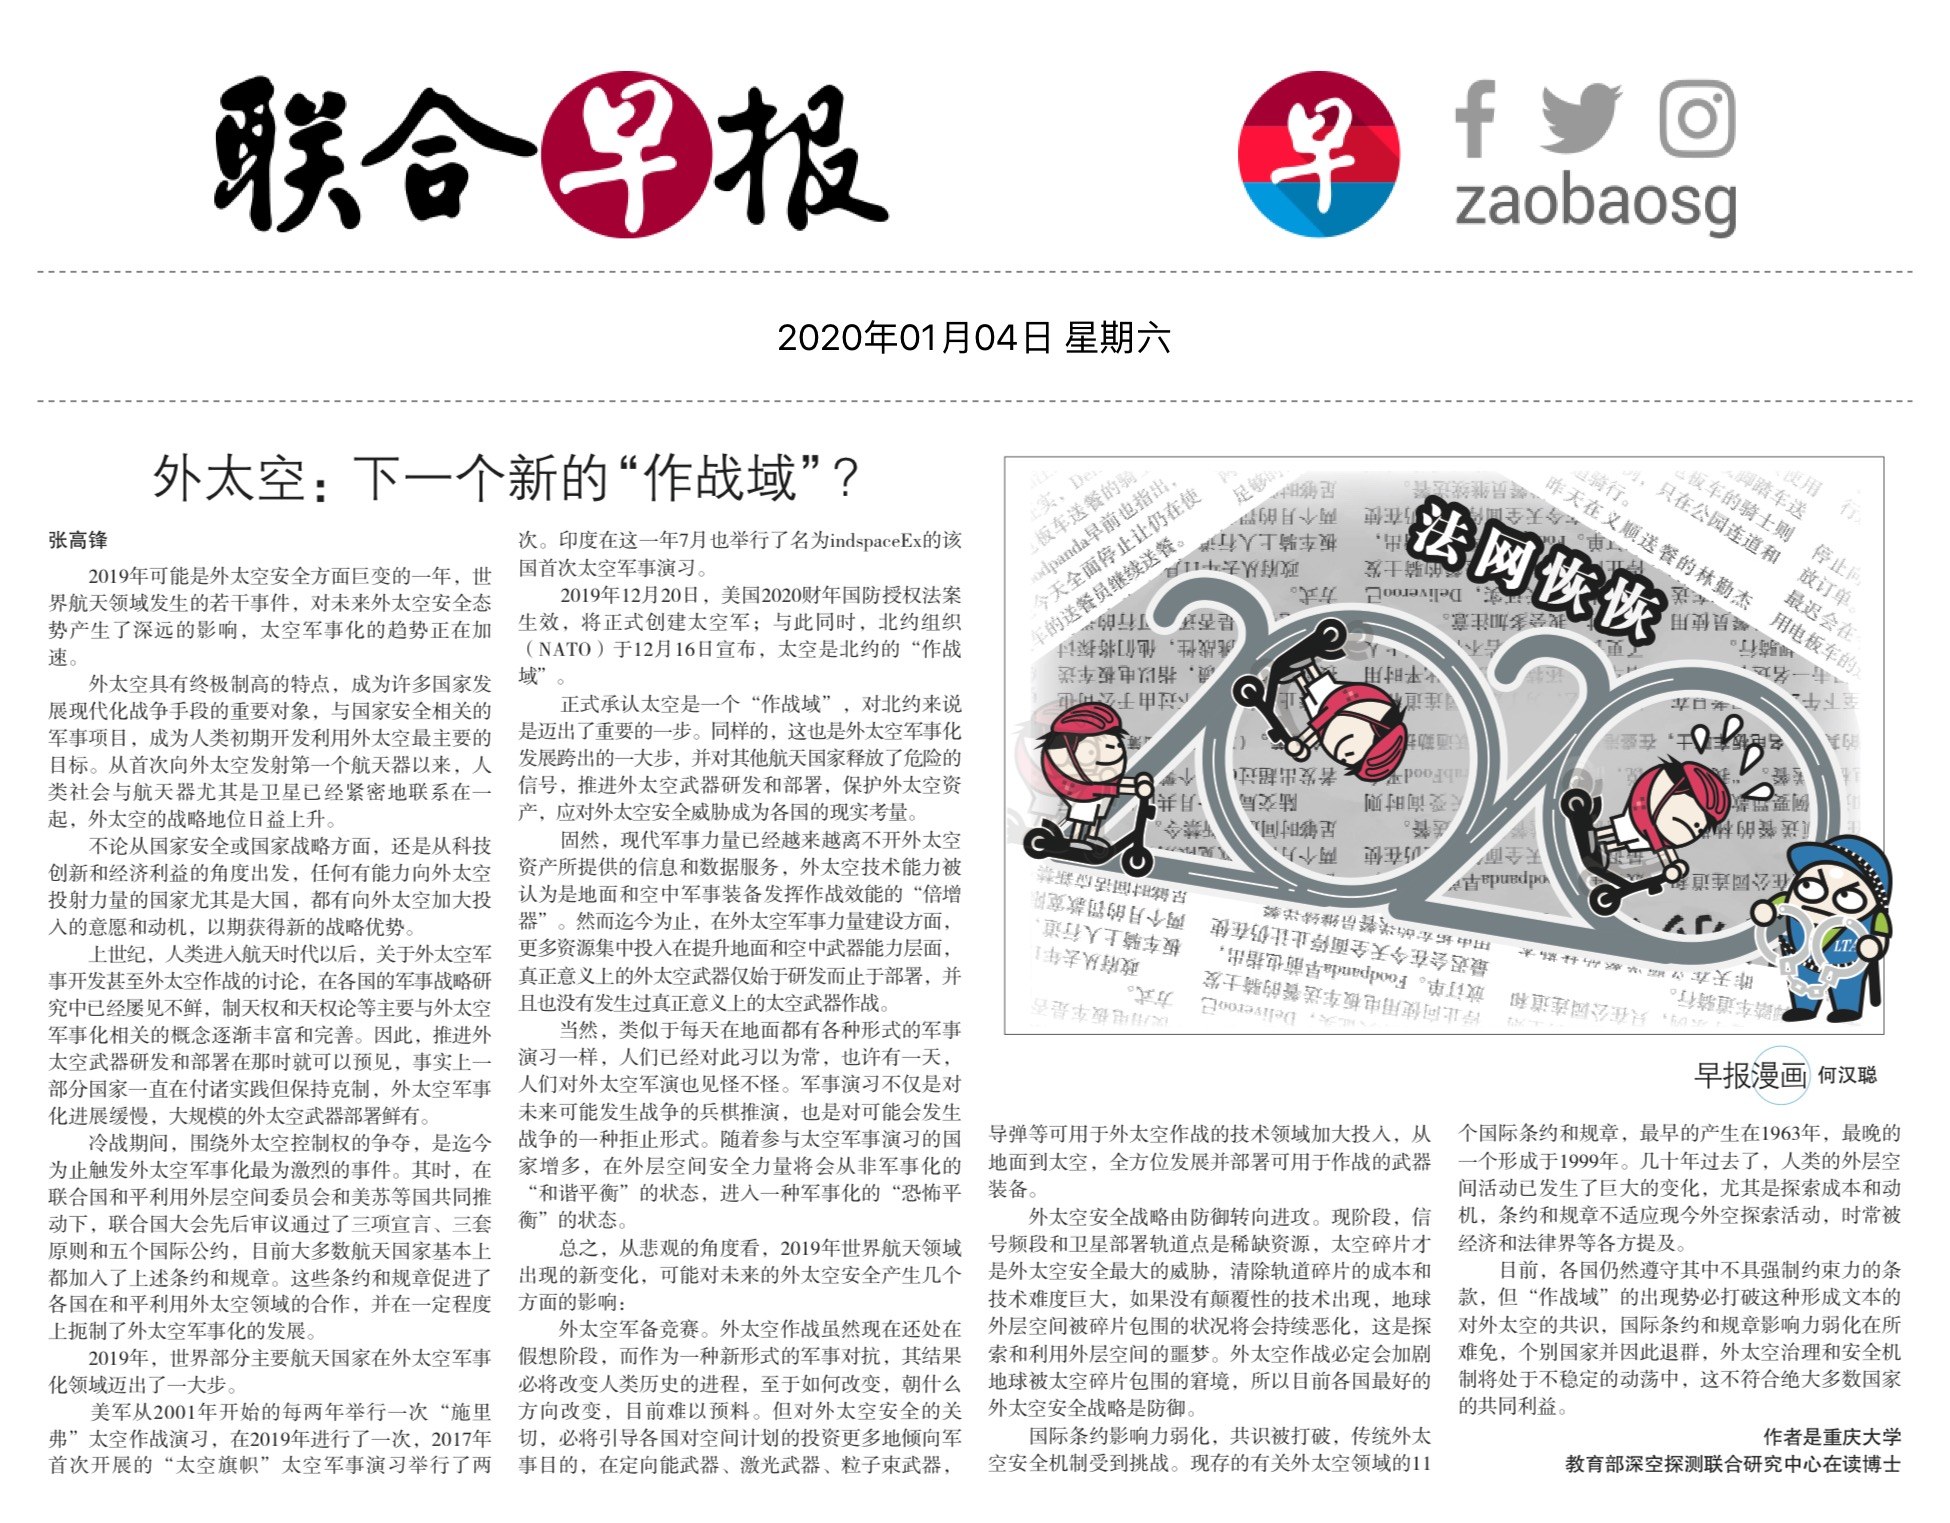heading: (142, 440, 867, 505)
